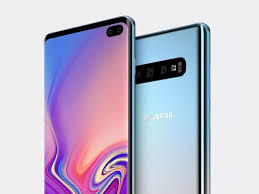samsung: (40, 14, 136, 193), (133, 21, 216, 194)
